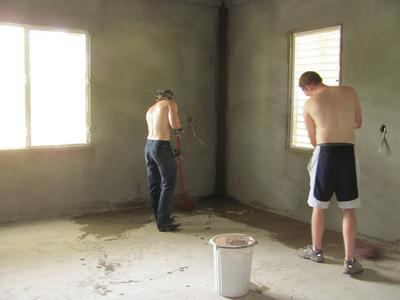person: (297, 71, 364, 276)
